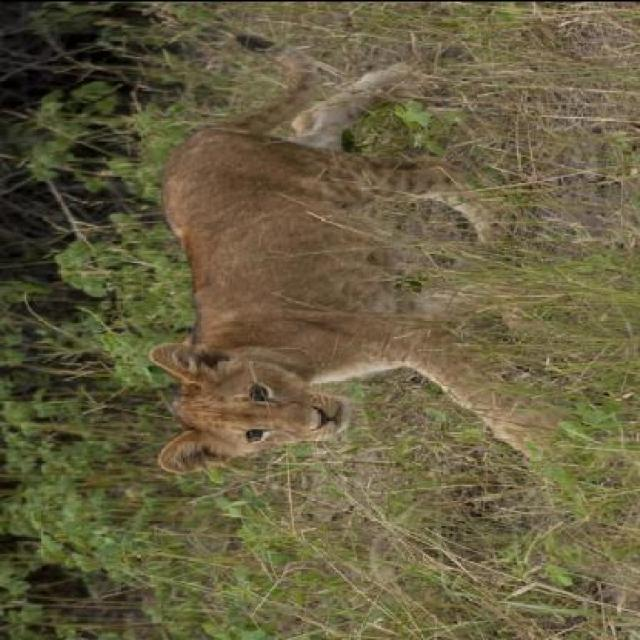Lion: (137, 19, 583, 486)
